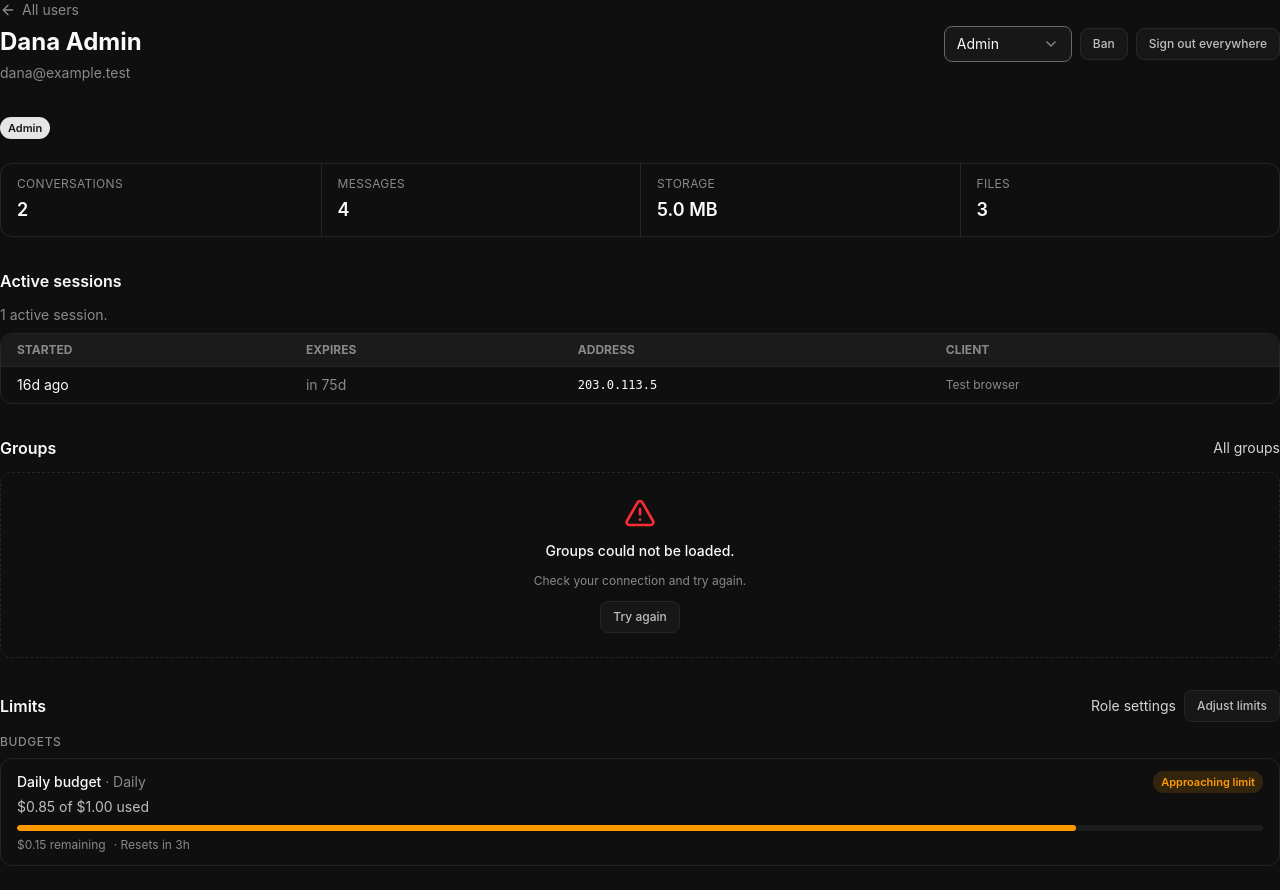
Test case: user limits › links to role settings and opens the override dialog
What coordinates should you click on to do the following:
click the button "Adjust limits"
I would click on:
 (1232, 706)
Its box is [1184,690,1279,722].
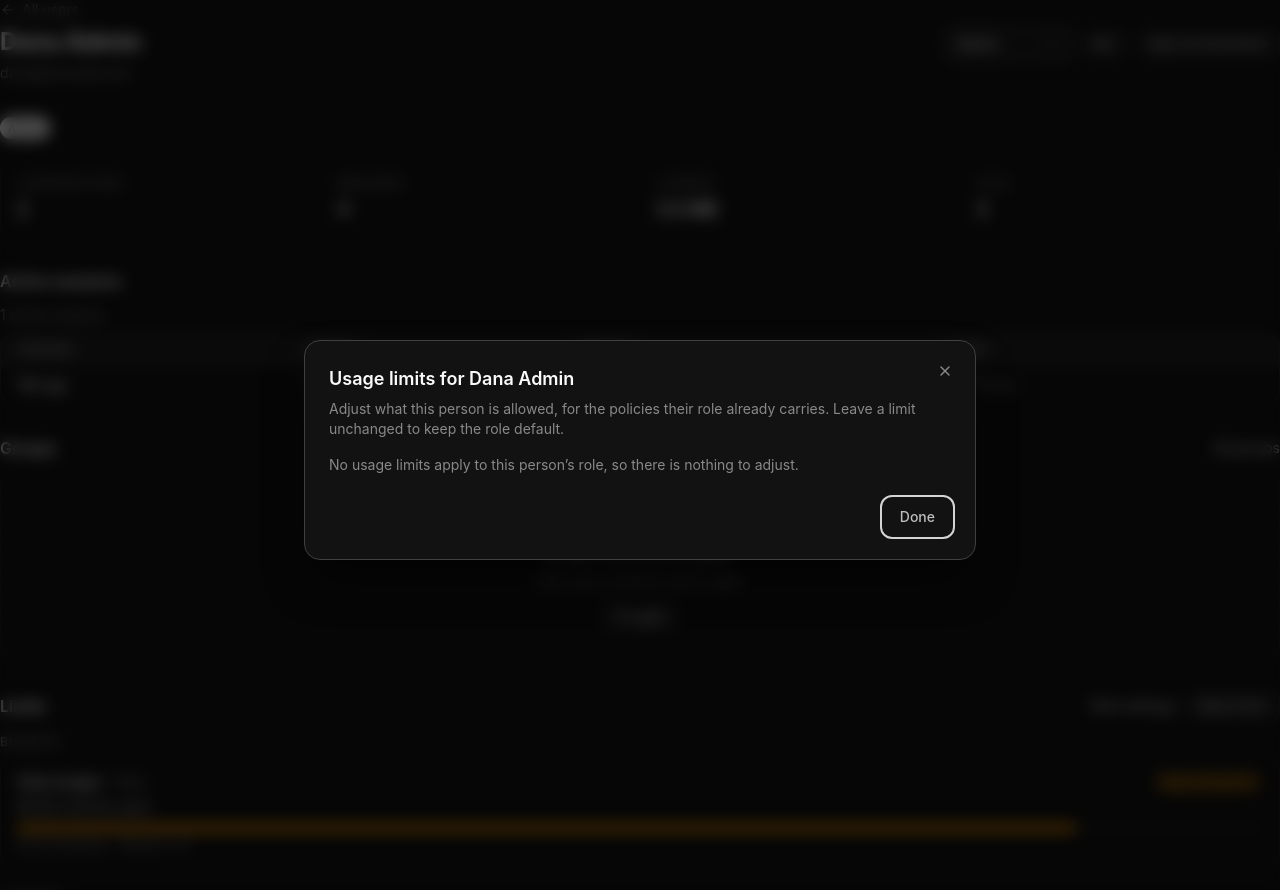
Check: the dialog shows "Usage limits for Dana Admin", box [304,340,976,560]
